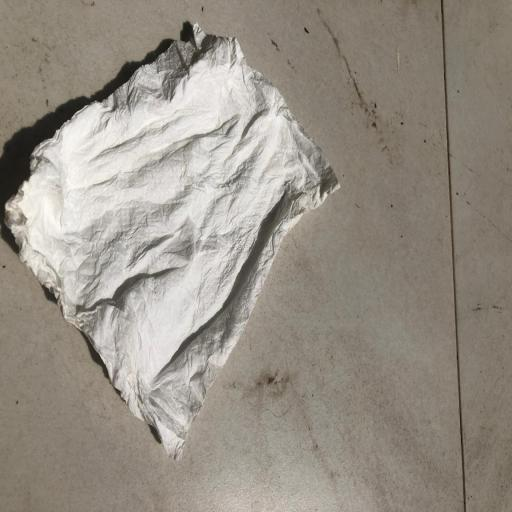waste: (0, 23, 345, 464)
